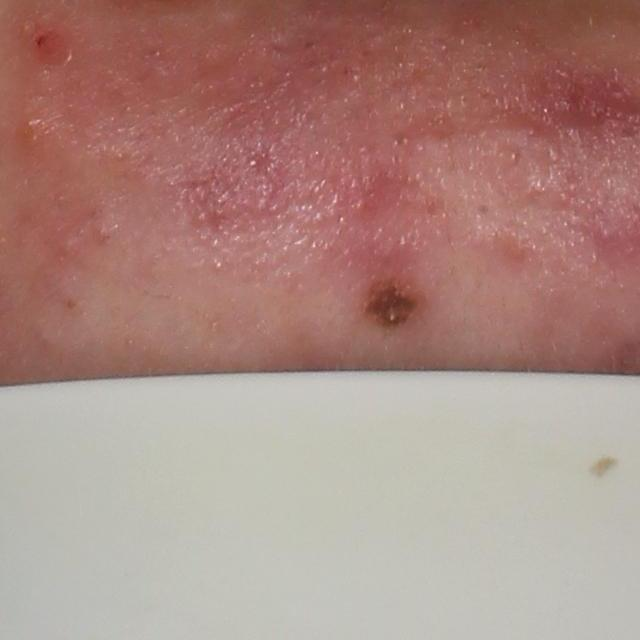nevus: (371, 289, 416, 328)
papule: (18, 23, 65, 63), (18, 112, 61, 152)
